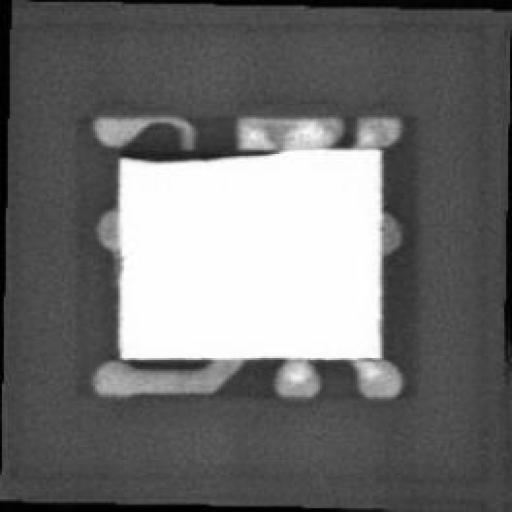DIE_BROKEN: (118, 145, 285, 161)
